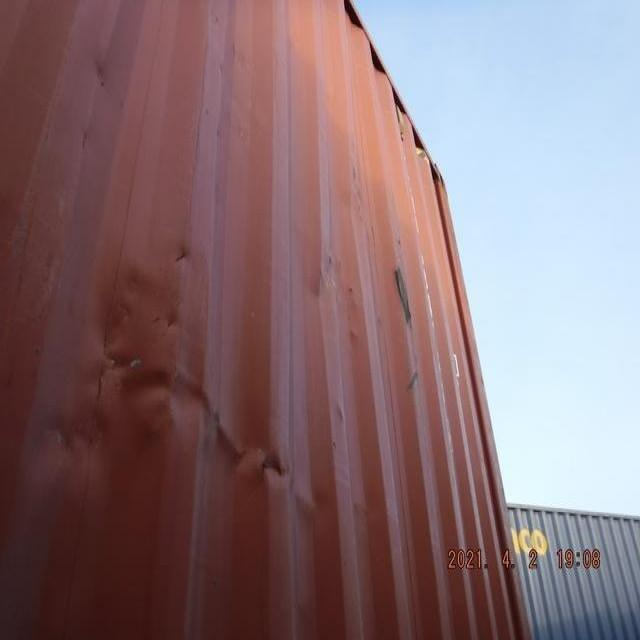dent: (8, 228, 355, 530)
